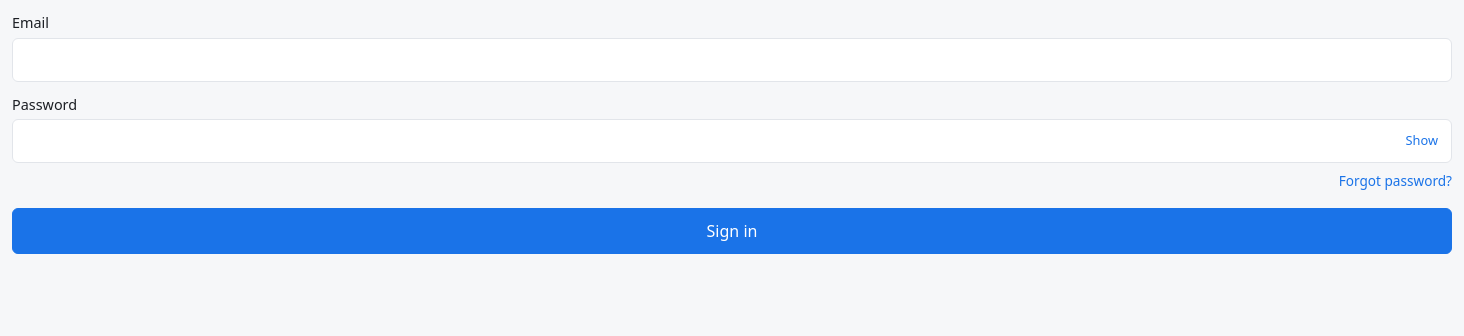
Test: EmailSignInForm › shows the right message for too_many_attempts and clears the password
Type "a@b.com" into the field labelled "Email" at (732,60), box [12, 38, 1452, 82]
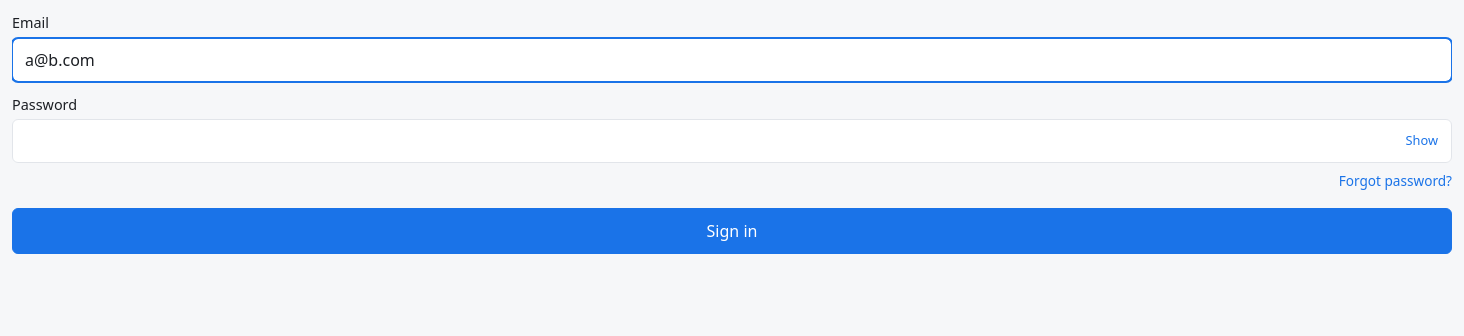
Type "secret password" into the password field labelled "Password" at (732,141), box [12, 119, 1452, 163]
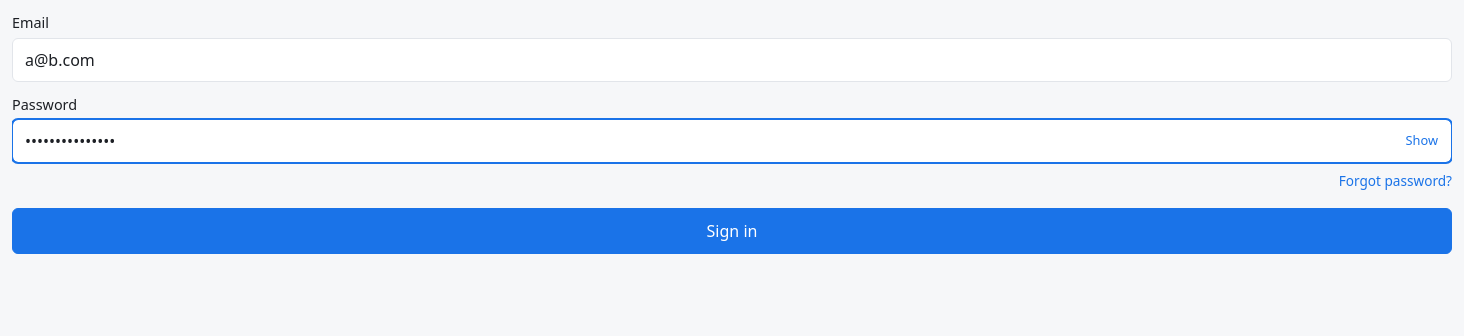
Click the button "Sign in" at (732,231), box [12, 208, 1452, 254]
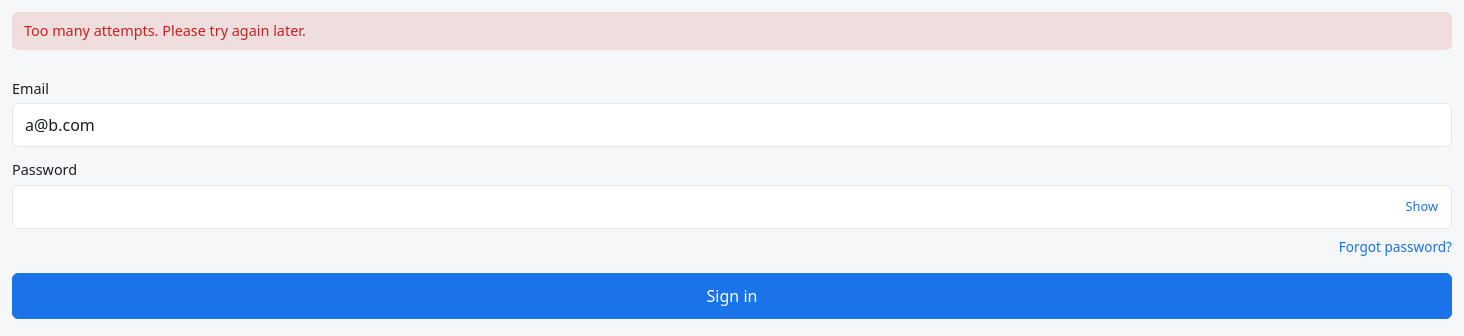
Expected: the button "Sign in" is enabled, [12, 273, 1452, 319]
Now the message reads "Too many attempts. Please try again later.", box [24, 21, 306, 40]
Now the password field labelled "Password" is empty, box [12, 185, 1452, 229]
